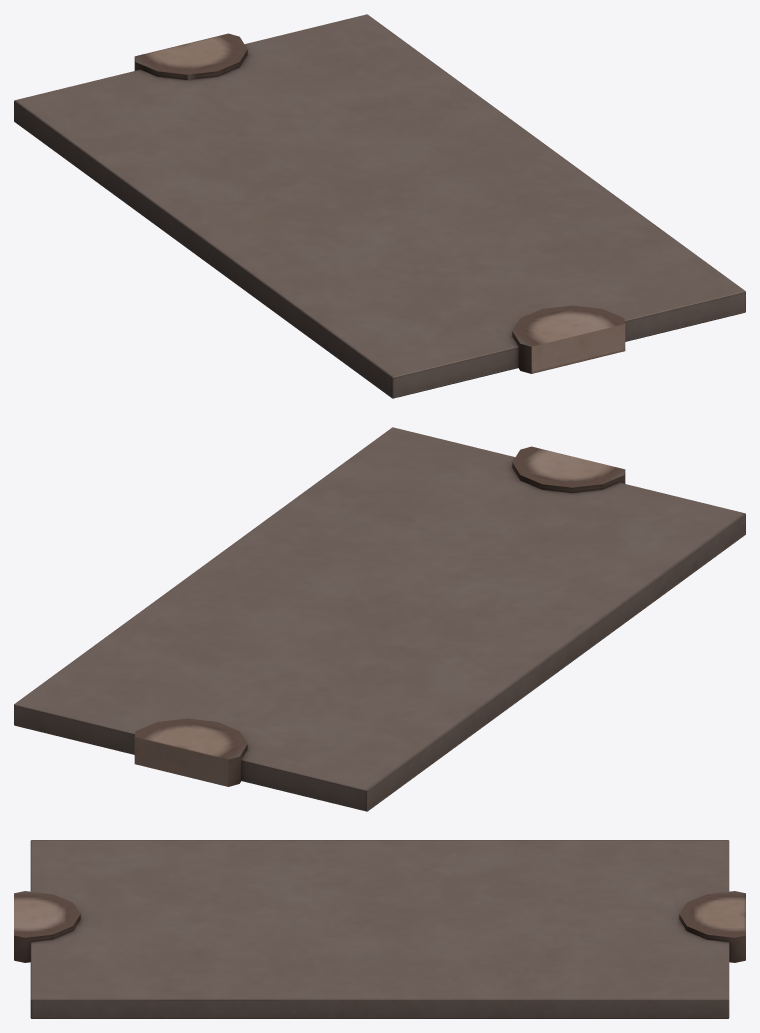
The model's file is track_bed_fill.obj.
3 views of the same model, one above another, from view 1: azimuth 30°, elevation 25°; view 2: azimuth 150°, elevation 25°; view 3: azimuth 270°, elevation 25° (orthographic). The views are drawn at different scales.
Parts seen in each view (by area): view 1: track_bed_fill, end_hinge_1, end_hinge_2; view 2: track_bed_fill, end_hinge_2, end_hinge_1; view 3: track_bed_fill, end_hinge_1, end_hinge_2.
Part boxes in pixels (<box>): track_bed_fill: <box>14,14,745,398</box>; end_hinge_1: <box>512,305,625,373</box>; end_hinge_2: <box>134,33,247,80</box>; track_bed_fill: <box>14,427,745,811</box>; end_hinge_2: <box>134,718,247,786</box>; end_hinge_1: <box>512,446,625,493</box>; track_bed_fill: <box>30,840,729,1018</box>; end_hinge_1: <box>14,891,80,962</box>; end_hinge_2: <box>679,891,745,962</box>.
Bounding box in the file's own units: 2.12 × 0.1562 × 4.12.
Materials: 2 (2 with a texture image).
